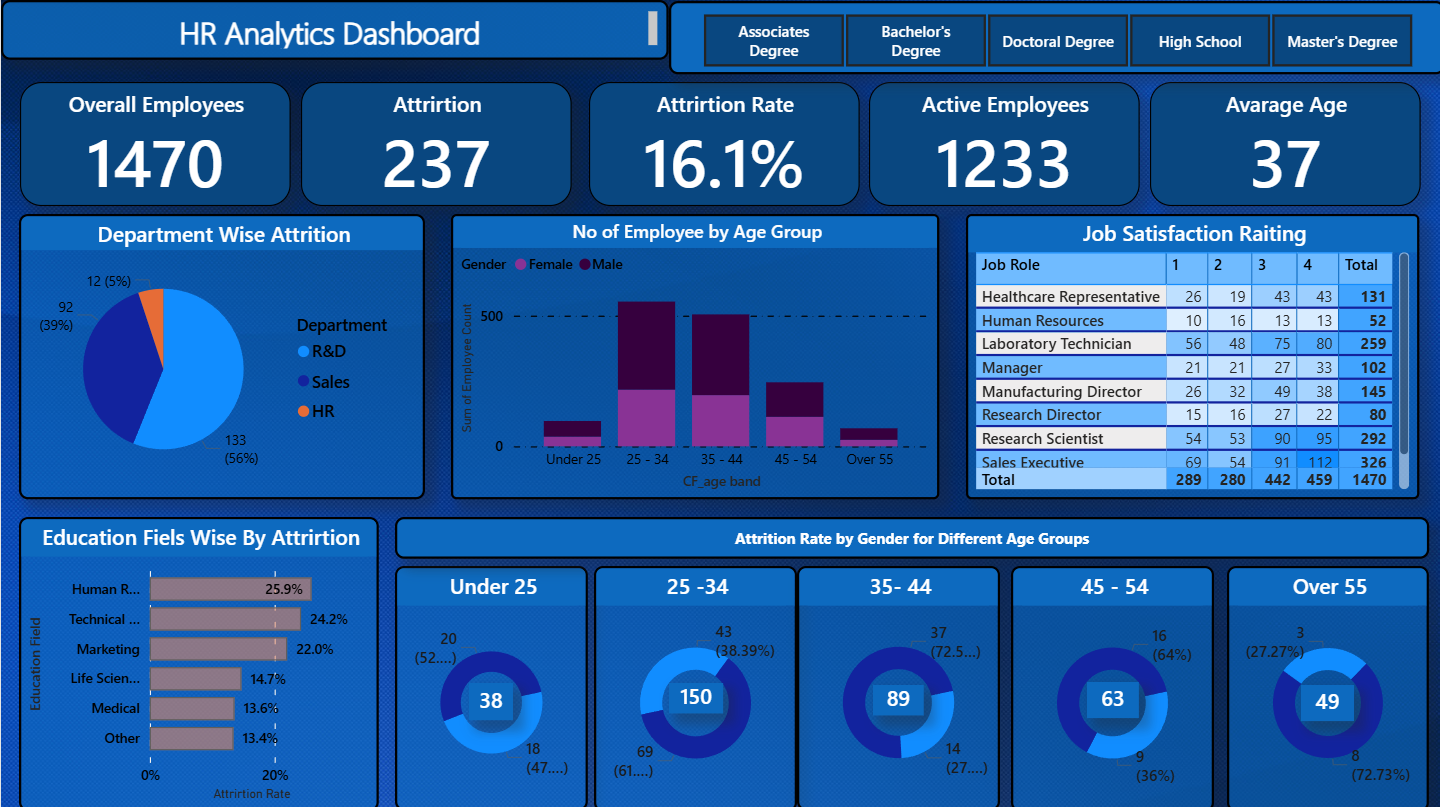

This screenshot's page, from the dashboard's own definition file:
{"tool":"powerbi","page":{"name":"Page 1","canvas":[1280,720],"ordinal":0},"visuals":[{"type":"card","title":"Overall Employees","fields":{"Values":["Sum(HR data.Employee Count)"]},"box":[17,73,240,110],"z":0},{"type":"card","title":"Attrirtion","fields":{"Values":["Sum(HR data.Count Attrition)"]},"box":[266,73,240,110],"z":1000},{"type":"card","title":"Attrirtion Rate","fields":{"Values":["HR data.Attrirtion Rate"]},"box":[521,73,240,110],"z":2000},{"type":"card","title":"Active Employees","fields":{"Values":["HR data.active employees"]},"box":[770,73,240,110],"z":3000},{"type":"card","title":"Avarage Age","fields":{"Values":["Avg(HR data.Age)"]},"box":[1019,73,240,110],"z":4000},{"type":"pieChart","title":"Department Wise Attrition","fields":{"Category":["HR data.Department"],"Y":["Sum(HR data.Count Attrition)"]},"box":[16,190,360,253],"z":5000},{"type":"columnChart","title":"No of Employee by Age Group","fields":{"Category":["HR data.CF_age band"],"Y":["Sum(HR data.Employee Count)"],"Series":["HR data.Gender"]},"box":[399,190,433,253],"z":6000},{"type":"pivotTable","title":"Job Satisfaction Raiting","fields":{"Rows":["HR data.Job Role"],"Columns":["HR data.Job Satisfaction"],"Values":["Sum(HR data.Employee Count)"]},"box":[856,190,402,253],"z":7000},{"type":"barChart","title":"Education Fiels Wise By Attrirtion","fields":{"Category":["HR data.Education Field"],"Y":["HR data.Attrirtion Rate"]},"box":[16,458,319,261],"z":8000},{"type":"donutChart","title":"Under 25","fields":{"Category":["HR data.Gender"],"Y":["Sum(HR data.Count Attrition)"],"Series":["HR data.CF_age band"]},"box":[349,502,171,217],"z":9000},{"type":"textbox","box":[349,458,917,37],"z":10000},{"type":"donutChart","title":"25 -34","fields":{"Category":["HR data.Gender"],"Y":["Sum(HR data.Count Attrition)"],"Series":["HR data.CF_age band"]},"box":[526,502,180,218],"z":11000},{"type":"donutChart","title":"35- 44","fields":{"Category":["HR data.Gender"],"Y":["Sum(HR data.Count Attrition)"],"Series":["HR data.CF_age band"]},"box":[706,502,180,217],"z":12000},{"type":"donutChart","title":"45 - 54","fields":{"Category":["HR data.Gender"],"Y":["Sum(HR data.Count Attrition)"],"Series":["HR data.CF_age band"]},"box":[896,502,180,218],"z":13000},{"type":"donutChart","title":"Over 55","fields":{"Category":["HR data.Gender"],"Y":["Sum(HR data.Count Attrition)"],"Series":["HR data.CF_age band"]},"box":[1087,502,179,218],"z":14000},{"type":"card","fields":{"Values":["Sum(HR data.Count Attrition)"]},"box":[415,606,39,33],"z":15000},{"type":"card","fields":{"Values":["Sum(HR data.Count Attrition)"]},"box":[592,606,48,27],"z":16000},{"type":"card","fields":{"Values":["Sum(HR data.Count Attrition)"]},"box":[773,607,45,27],"z":17000},{"type":"card","fields":{"Values":["Sum(HR data.Count Attrition)"]},"box":[963,605,46,32],"z":18000},{"type":"card","fields":{"Values":["Sum(HR data.Count Attrition)"]},"box":[1153,607,47,32],"z":19000},{"type":"textbox","box":[0,0,592,53],"z":20000},{"type":"slicer","fields":{"Values":["HR data.Education"]},"box":[592,1,688,65],"z":21000}]}

Visuals, with their boxes in screenshot pixels (x1, y1, x2, y2), scaled from the page's 1280x720 canvas onto the 1440x807 screenshot:
"Overall Employees" card: [x1=19, y1=82, x2=289, y2=205]
"Attrirtion" card: [x1=299, y1=82, x2=569, y2=205]
"Attrirtion Rate" card: [x1=586, y1=82, x2=856, y2=205]
"Active Employees" card: [x1=866, y1=82, x2=1136, y2=205]
"Avarage Age" card: [x1=1146, y1=82, x2=1416, y2=205]
"Department Wise Attrition" pieChart: [x1=18, y1=213, x2=423, y2=497]
"No of Employee by Age Group" columnChart: [x1=449, y1=213, x2=936, y2=497]
"Job Satisfaction Raiting" pivotTable: [x1=963, y1=213, x2=1415, y2=497]
"Education Fiels Wise By Attrirtion" barChart: [x1=18, y1=513, x2=377, y2=806]
"Under 25" donutChart: [x1=393, y1=563, x2=585, y2=806]
textbox: [x1=393, y1=513, x2=1424, y2=555]
"25 -34" donutChart: [x1=592, y1=563, x2=794, y2=806]
"35- 44" donutChart: [x1=794, y1=563, x2=997, y2=806]
"45 - 54" donutChart: [x1=1008, y1=563, x2=1210, y2=806]
"Over 55" donutChart: [x1=1223, y1=563, x2=1424, y2=806]
card - Sum(HR data.Count Attrition): [x1=467, y1=679, x2=511, y2=716]
card - Sum(HR data.Count Attrition): [x1=666, y1=679, x2=720, y2=709]
card - Sum(HR data.Count Attrition): [x1=870, y1=680, x2=920, y2=711]
card - Sum(HR data.Count Attrition): [x1=1083, y1=678, x2=1135, y2=714]
card - Sum(HR data.Count Attrition): [x1=1297, y1=680, x2=1350, y2=716]
textbox: [x1=0, y1=0, x2=666, y2=59]
slicer - HR data.Education: [x1=666, y1=1, x2=1439, y2=74]
